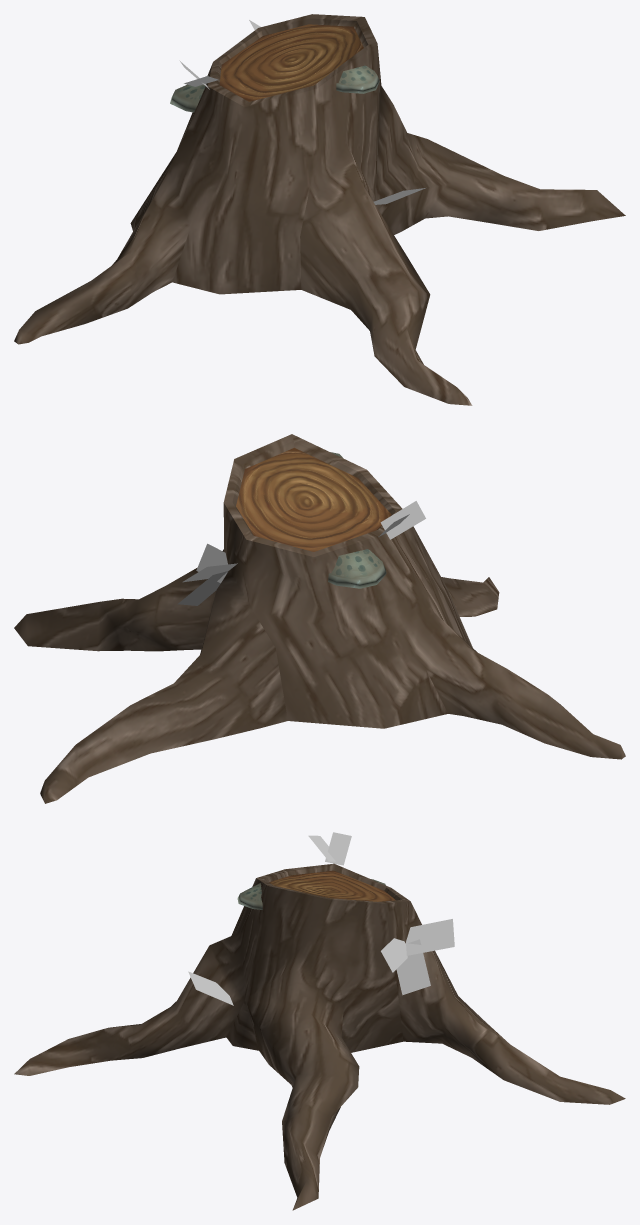
Rendered from Trunk_03.fbx.
3 views of the same model, one above another, from view 1: azimuth 30°, elevation 25°; view 2: azimuth 150°, elevation 25°; view 3: azimuth 270°, elevation 25° (orthographic). The views are drawn at different scales.
Visible parts, largest first — view 1: polySurface161; view 2: polySurface161; view 3: polySurface161.
Part boxes in pixels (bbox=[...]): polySurface161: bbox=[14, 14, 625, 405]; polySurface161: bbox=[14, 434, 625, 803]; polySurface161: bbox=[14, 832, 625, 1210].
Size of the model in its own units: 3.34 by 1.29 by 3.36.
